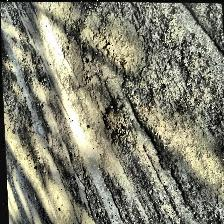pothole: (99, 96, 130, 142)
